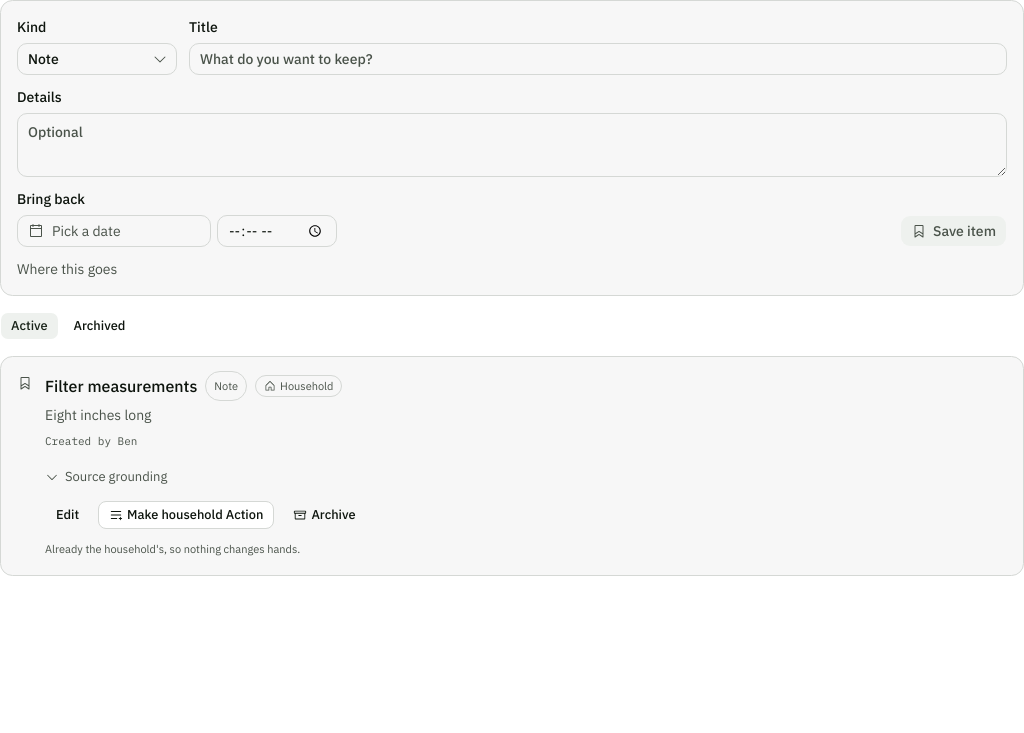
Scenario: SavedItemsSurface › adopts the stored value from the server when the member takes theirs
Click the button "Edit" at (68, 515), box [45,501,90,529]
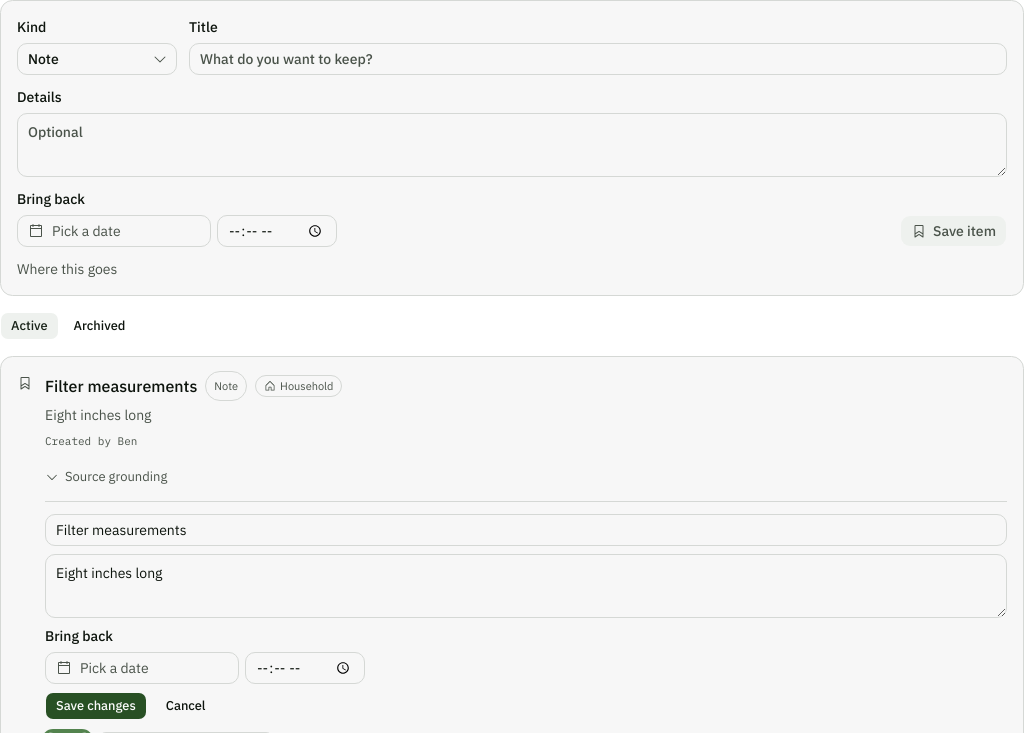
Replace the text in the field named "Edit title" with "Filter measurements v2" at (526, 530), box [45,514,1007,546]
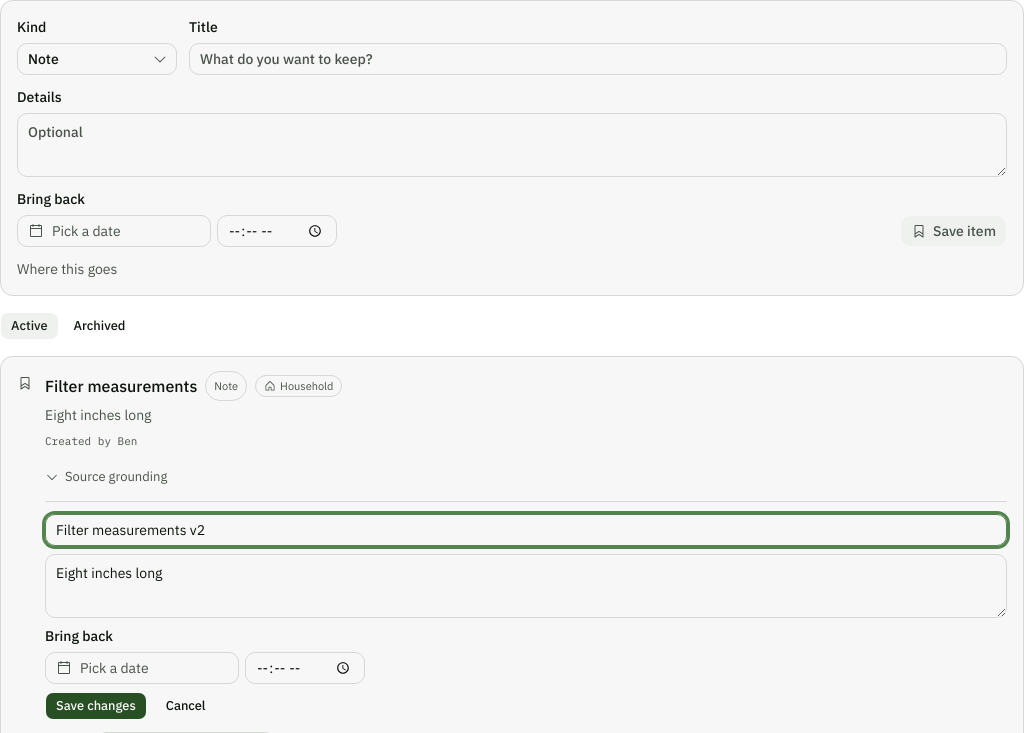
Click the button "Save changes" at (96, 706), box [45,692,147,720]
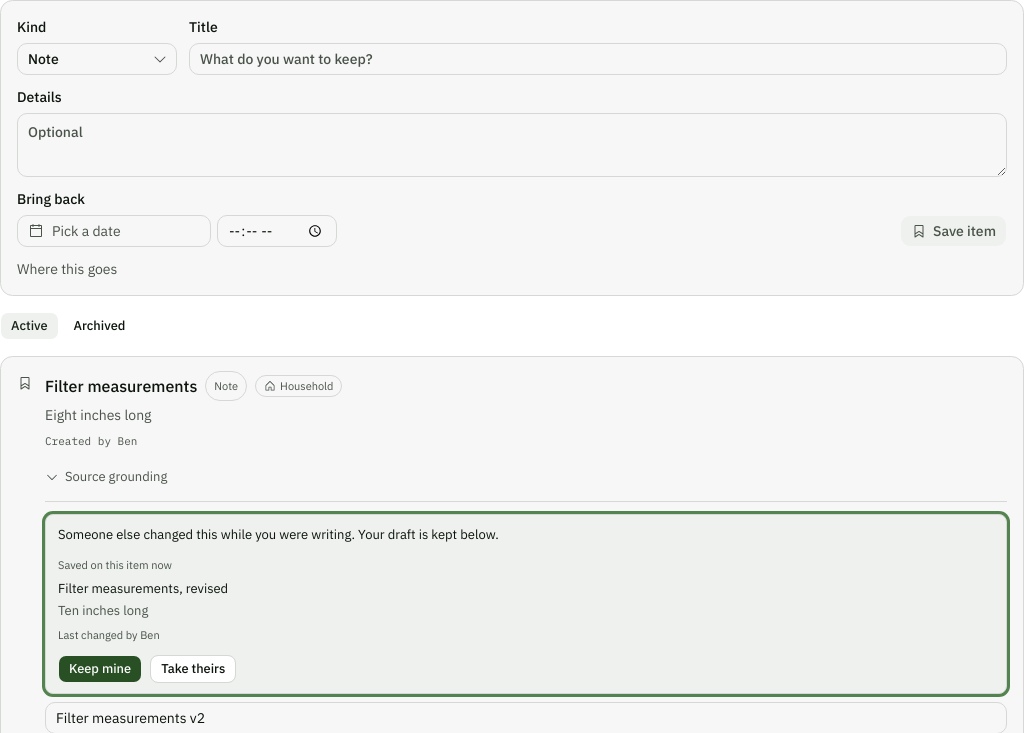
Click the button "Take theirs" at (193, 669), box [150,655,236,683]
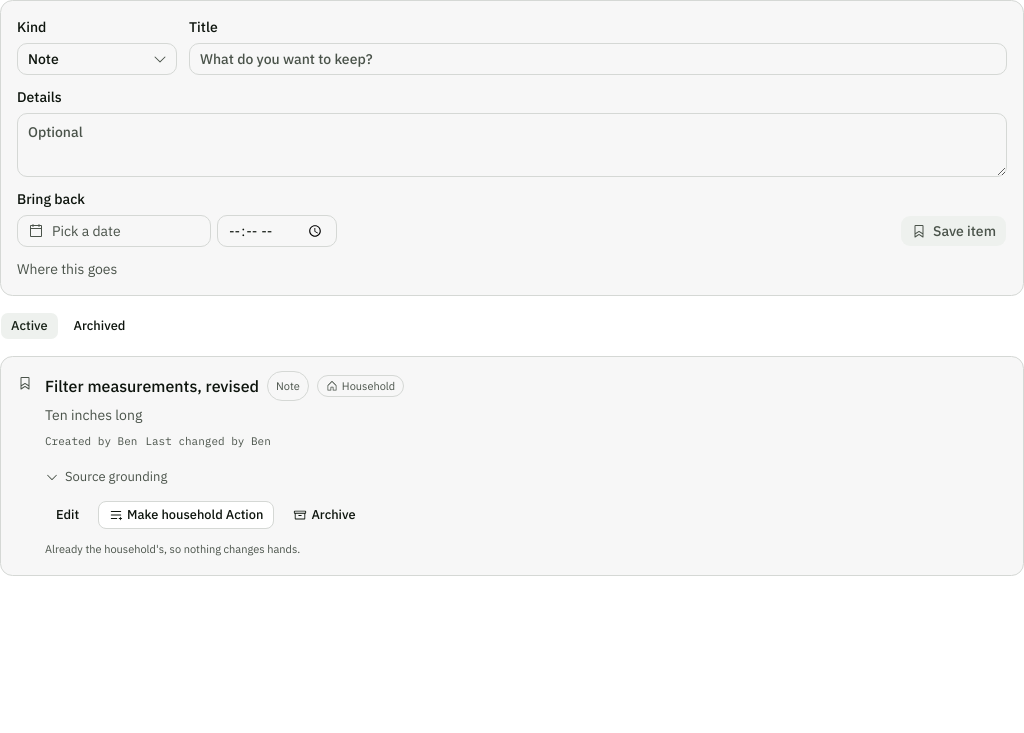
Expected: the heading "Filter measurements, revised" is shown, [45,374,259,398]
